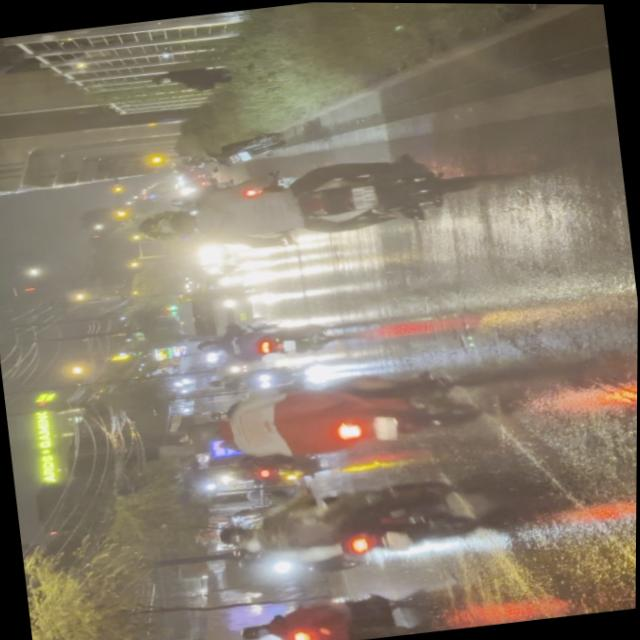helmet: (134, 203, 201, 244), (184, 415, 230, 445), (216, 521, 256, 546)
licenseplate: (125, 127, 491, 264), (179, 354, 481, 468), (213, 463, 479, 578)
nohelmet: (351, 182, 379, 209)
